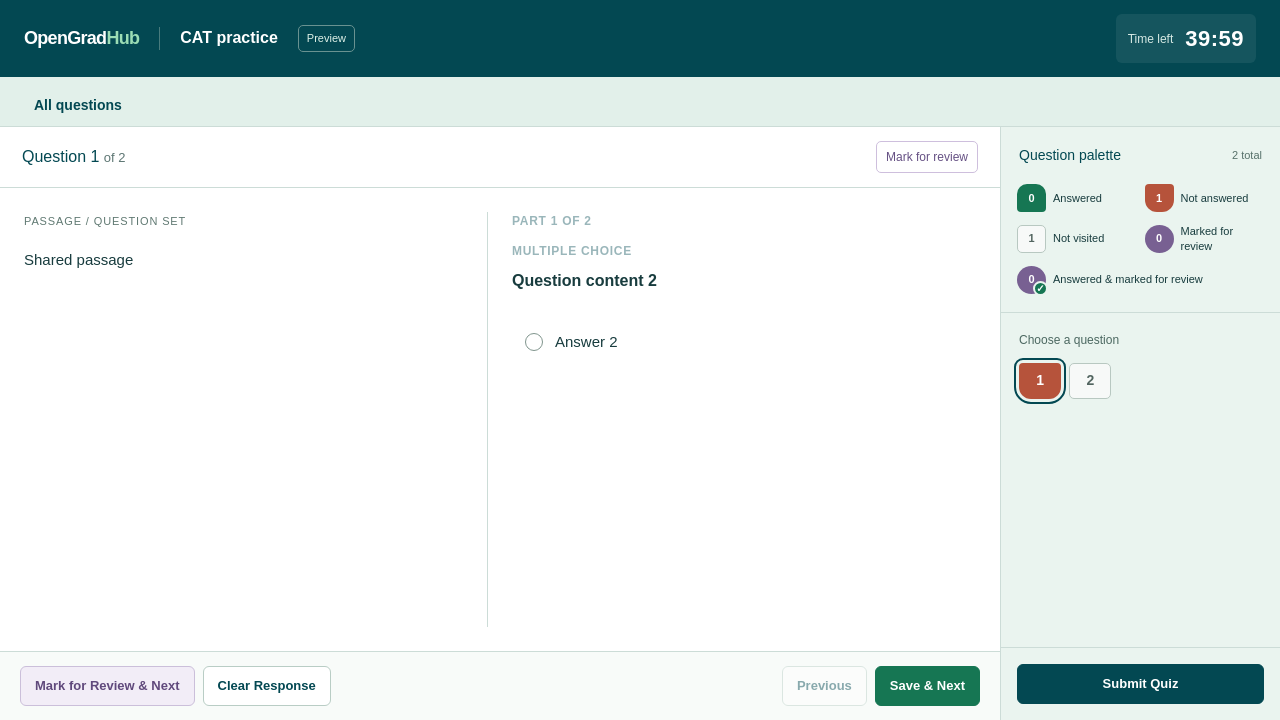
shows each part of a question group as its own question with the passage repeated
expect the button named "Question 1: Not answered" is shown: met, box top-left (1019, 363), bottom-right (1061, 399)
expect the button named "Question 2: Not visited" is shown: met, box top-left (1069, 363), bottom-right (1111, 399)
Click the radio button labelled "Answer 2". click: (586, 341)
box: top-left (512, 318), bottom-right (976, 366)
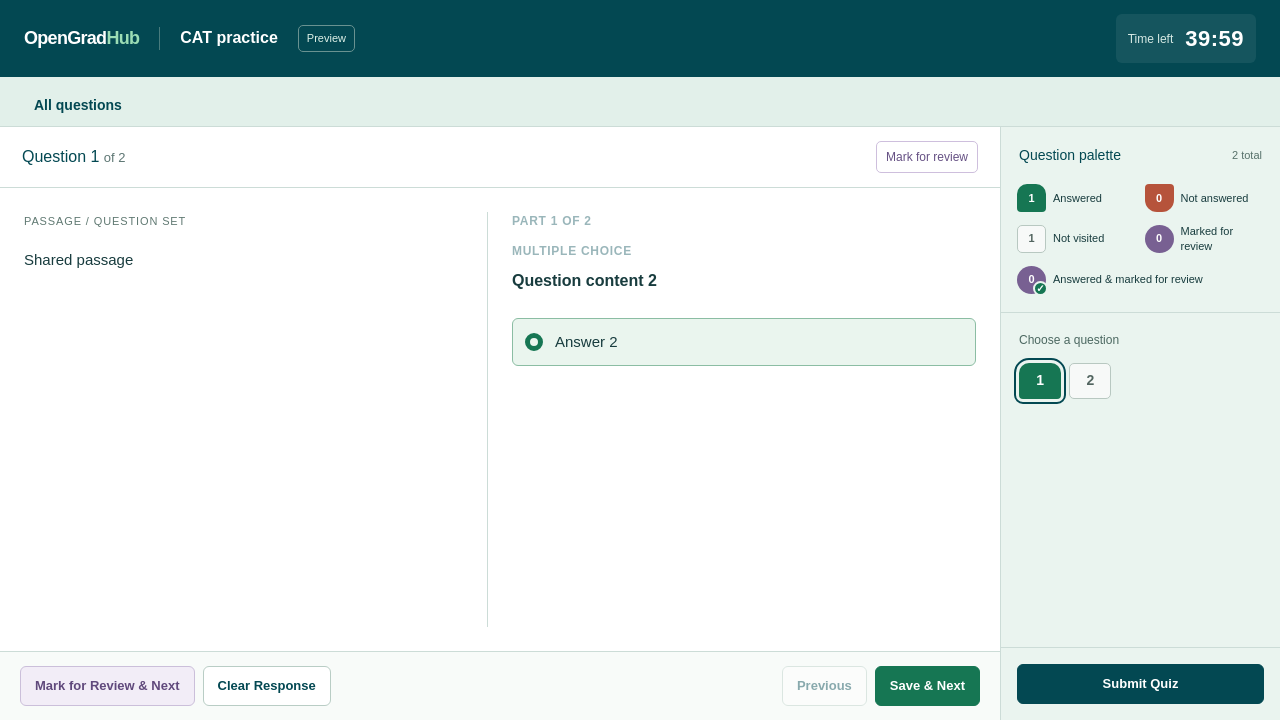
expect the button named "Question 1: Answered" is shown: met, box top-left (1019, 363), bottom-right (1061, 399)
Click the button "Clear Response". click: (267, 686)
box: top-left (202, 666), bottom-right (331, 706)
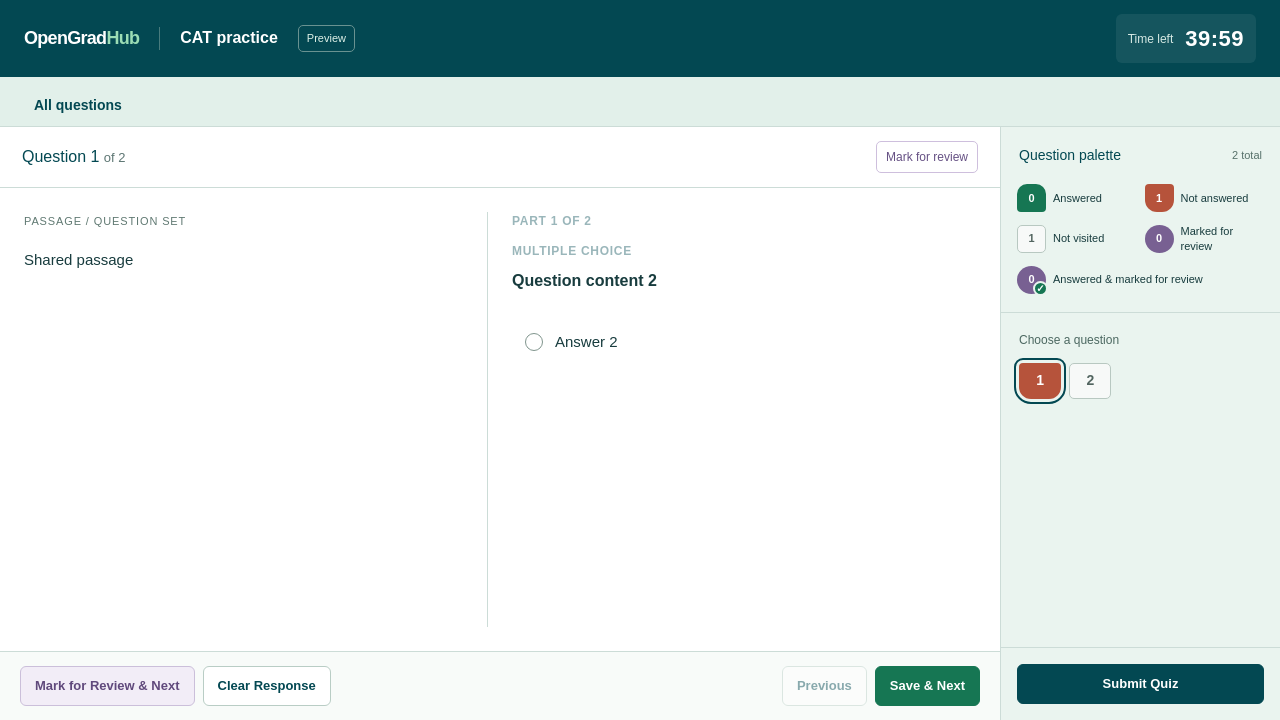
expect the button named "Question 1: Not answered" is shown: met, box top-left (1019, 363), bottom-right (1061, 399)
Click the button "Save & Next". click: (927, 686)
box: top-left (875, 666), bottom-right (980, 706)
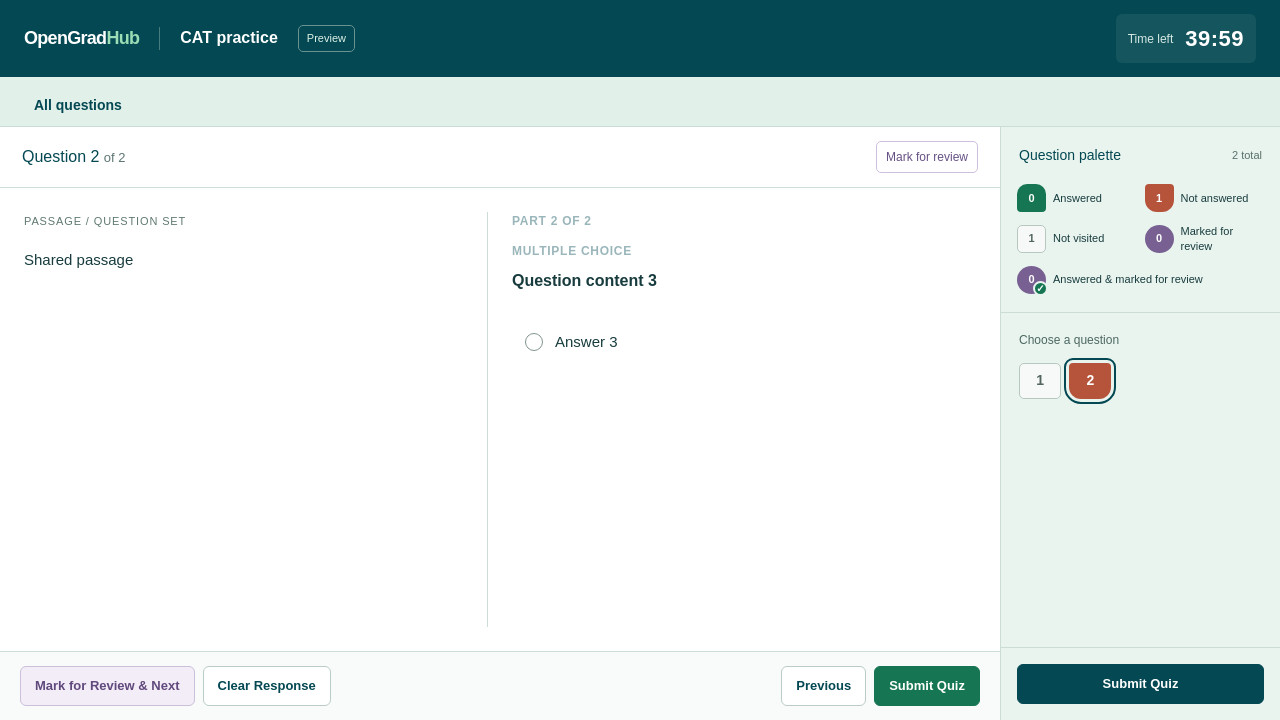
expect the text "Shared passage" is shown: met, box top-left (24, 251), bottom-right (133, 268)
expect the text "Part 2 of 2" is shown: met, box top-left (512, 214), bottom-right (592, 228)
expect the radio button labelled "Answer 3" is shown: met, box top-left (512, 318), bottom-right (976, 366)
